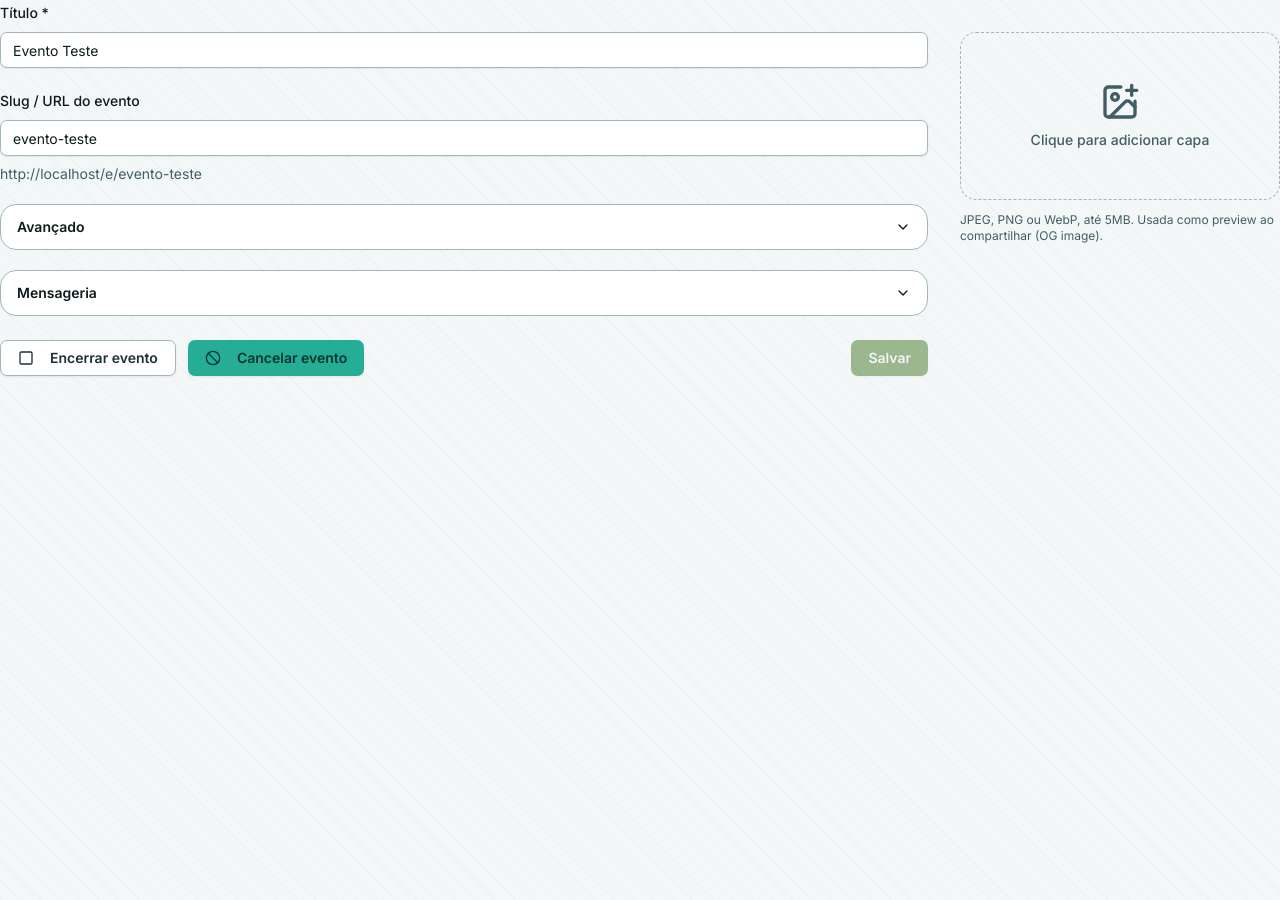
Scenario: Editar evento — slug › trocar o slug pede confirmação; cancelar não envia nada
Replace the text in the field labelled "Slug / URL do evento" with "novo-slug": (464, 138) [0, 120, 928, 156]
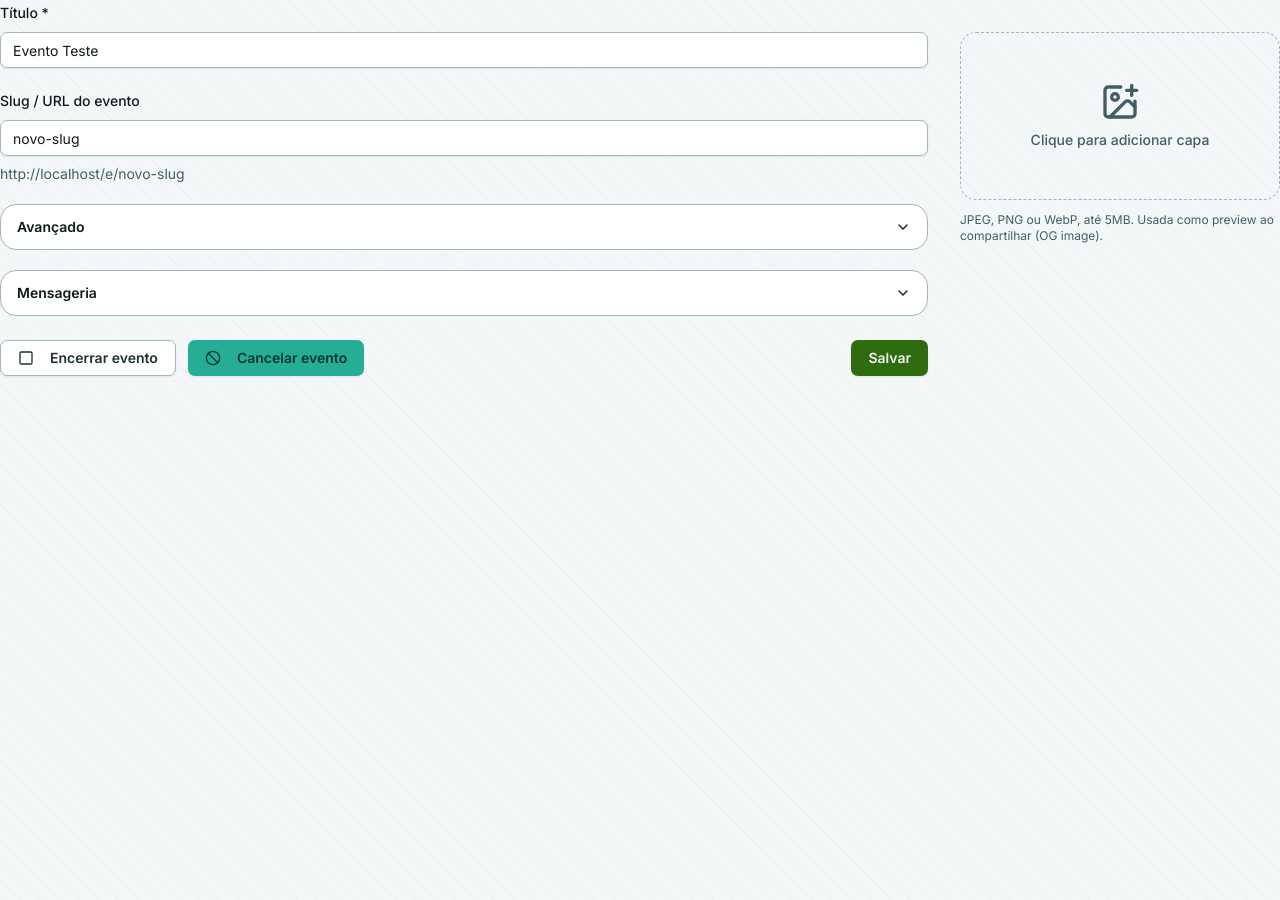
Click the button "Salvar": click(890, 358) [851, 340, 928, 376]
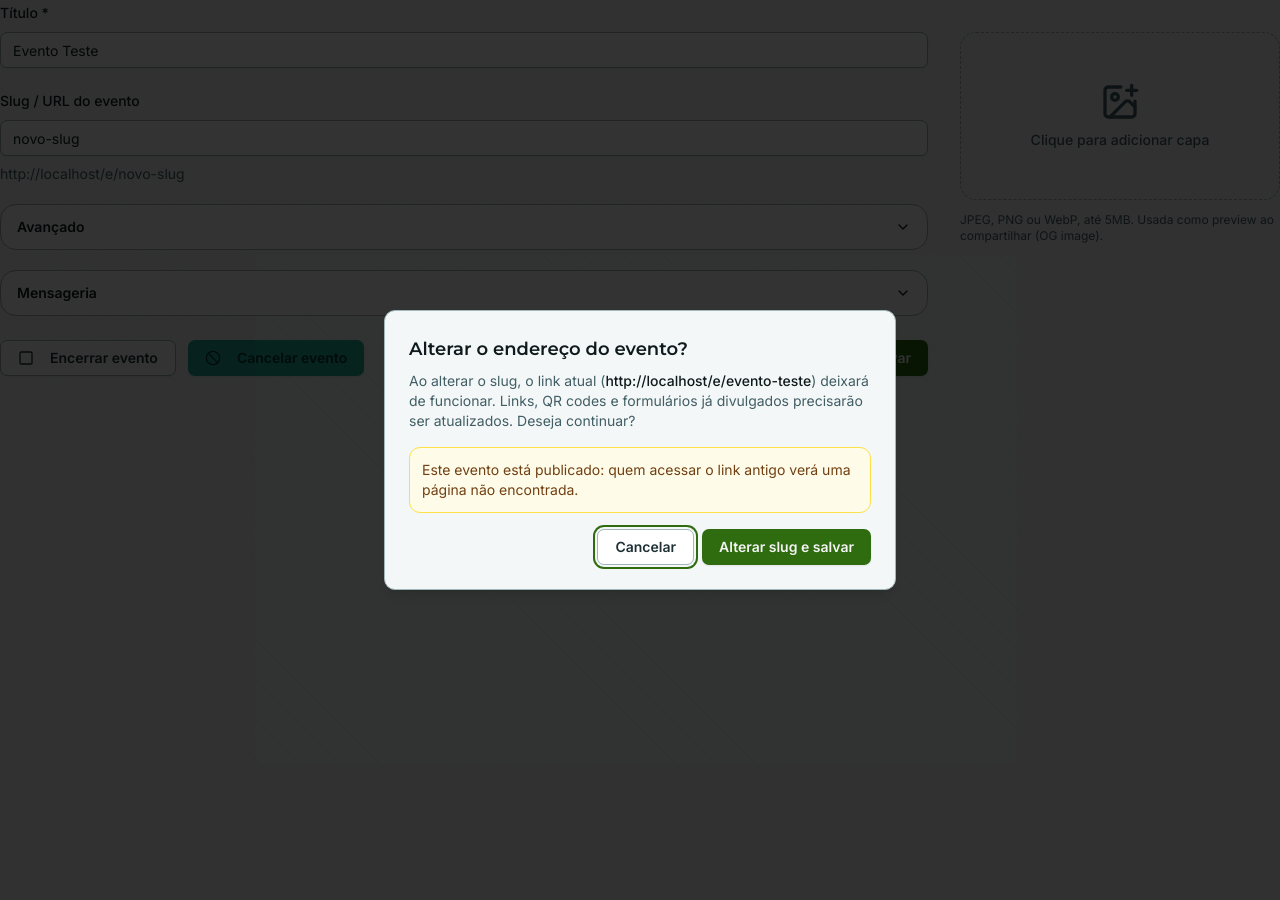
Result: the dialog shows "publicado" at [422, 461, 850, 498]
Click the button "Cancelar": click(646, 547) [598, 529, 694, 565]
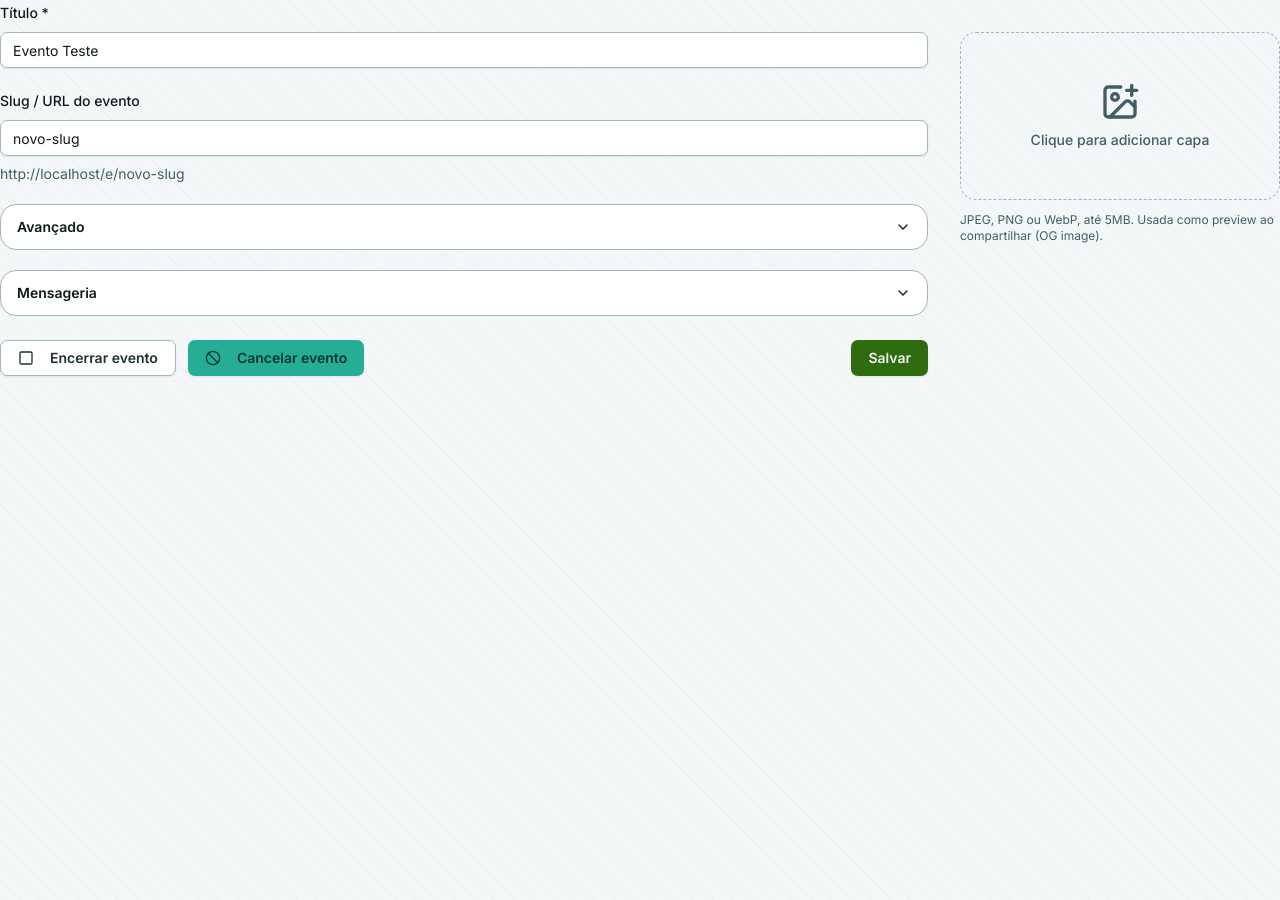
Result: the dialog is gone
